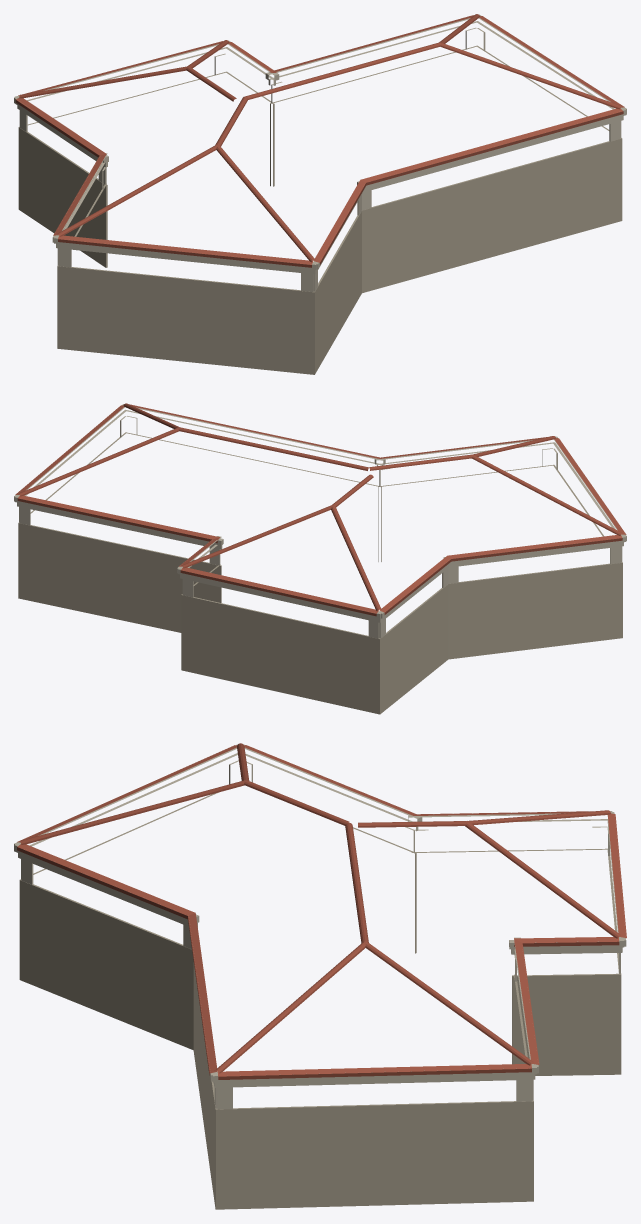
The picture shows the model from 3 angles, top to bottom: view 1: azimuth 30°, elevation 25°; view 2: azimuth 150°, elevation 25°; view 3: azimuth 270°, elevation 25°; orthographic projection. The views are drawn at different scales.
Visible parts, largest first — view 1: detail; view 2: detail; view 3: detail.
Part boxes in pixels (x1,y1,x2,y2): detail: (14, 14, 626, 374); detail: (14, 403, 626, 714); detail: (14, 743, 626, 1209).
Bounding box in the file's own units: 31.29 × 8.65 × 24.36.
